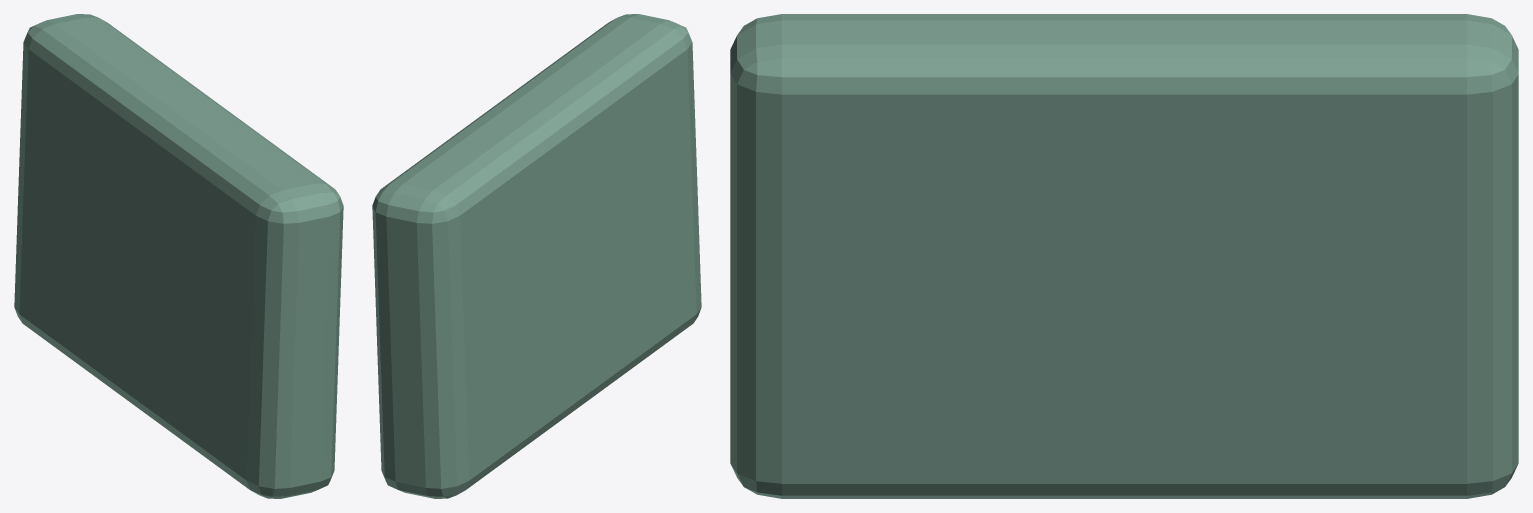
The model's file is Pillow_1.fbx.
3 renders of one model, left to right at view 1: azimuth 30°, elevation 25°; view 2: azimuth 150°, elevation 25°; view 3: azimuth 270°, elevation 25°, orthographic. The views are drawn at different scales.
Visible parts, largest first — view 1: Pillow_1; view 2: Pillow_1; view 3: Pillow_1.
Part boxes in pixels (box(x1,y1,x2,y2)): Pillow_1: box(14, 14, 343, 498); Pillow_1: box(372, 14, 701, 498); Pillow_1: box(730, 14, 1518, 498).
Bounding box in the file's own units: 0.0777 × 0.2457 × 0.3838.
